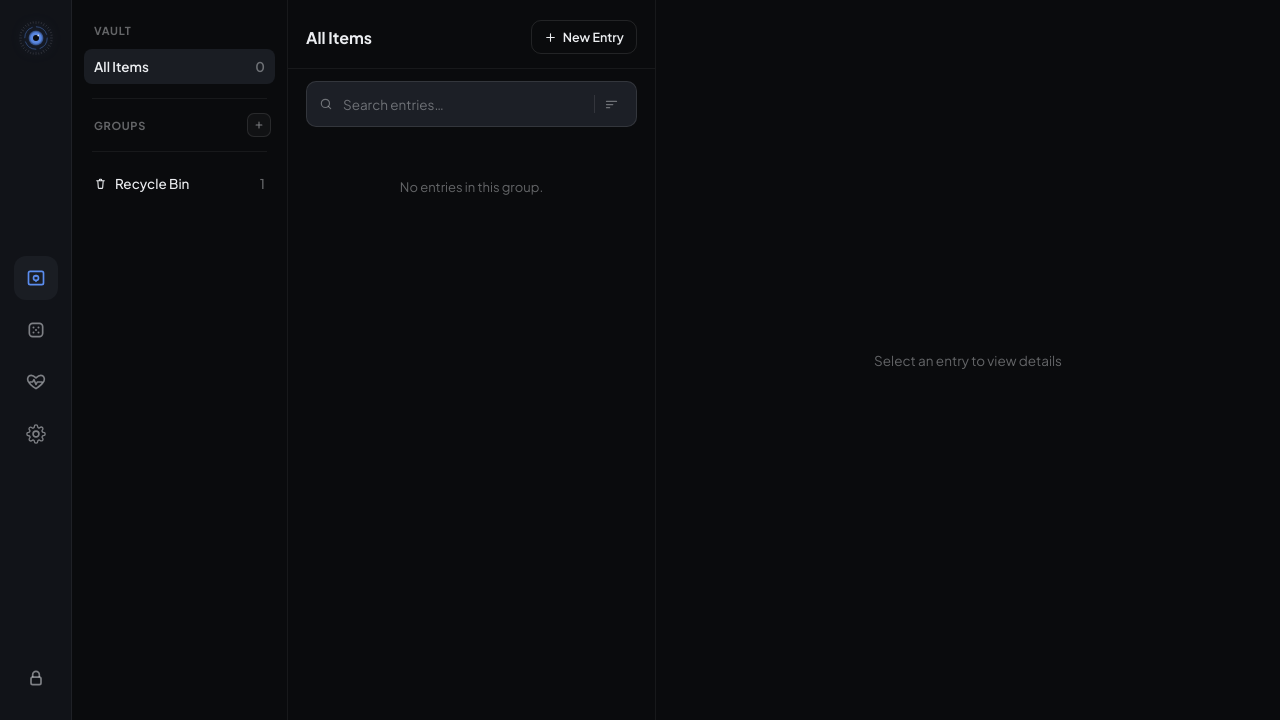
Scenario: VaultShell › Ctrl+F › leaves the recycle bin for All Items, which has a search box
Click the text "Recycle Bin" at (142, 184), box [94, 175, 190, 192]
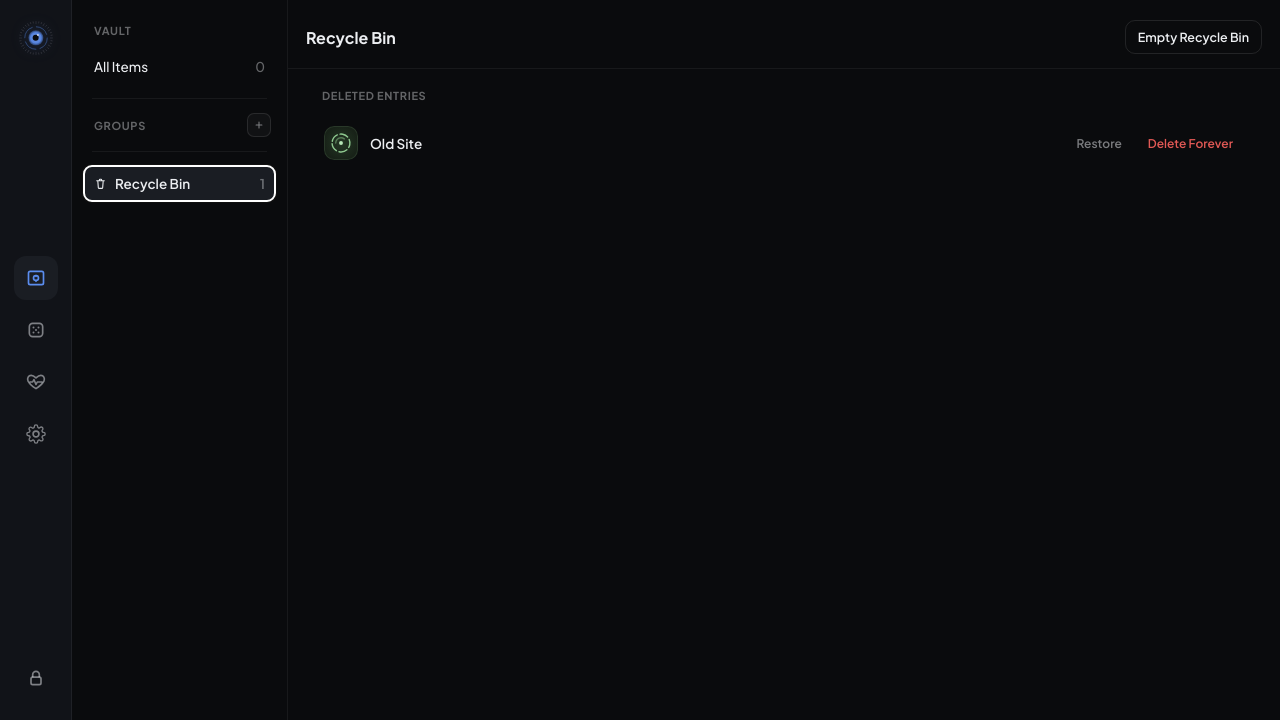
Type keys "{Control>}f{/Control}"
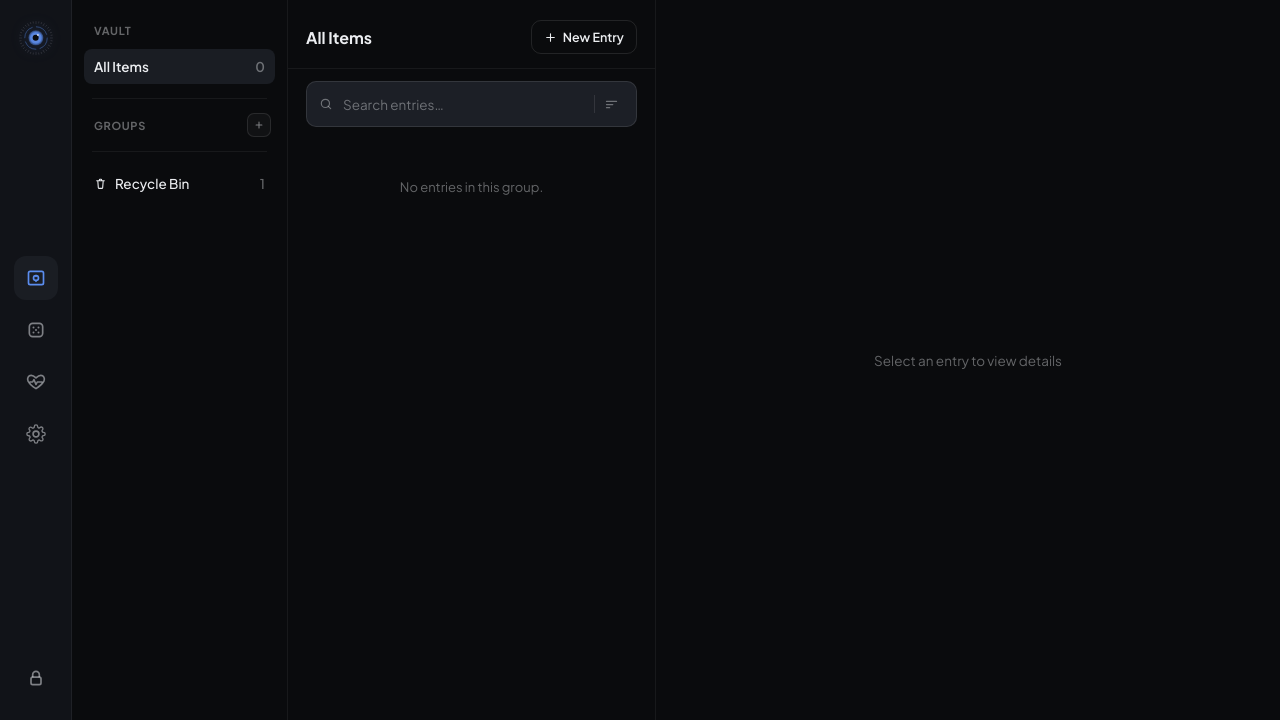
Expected: the heading "All Items" is shown, [306, 26, 372, 48]
